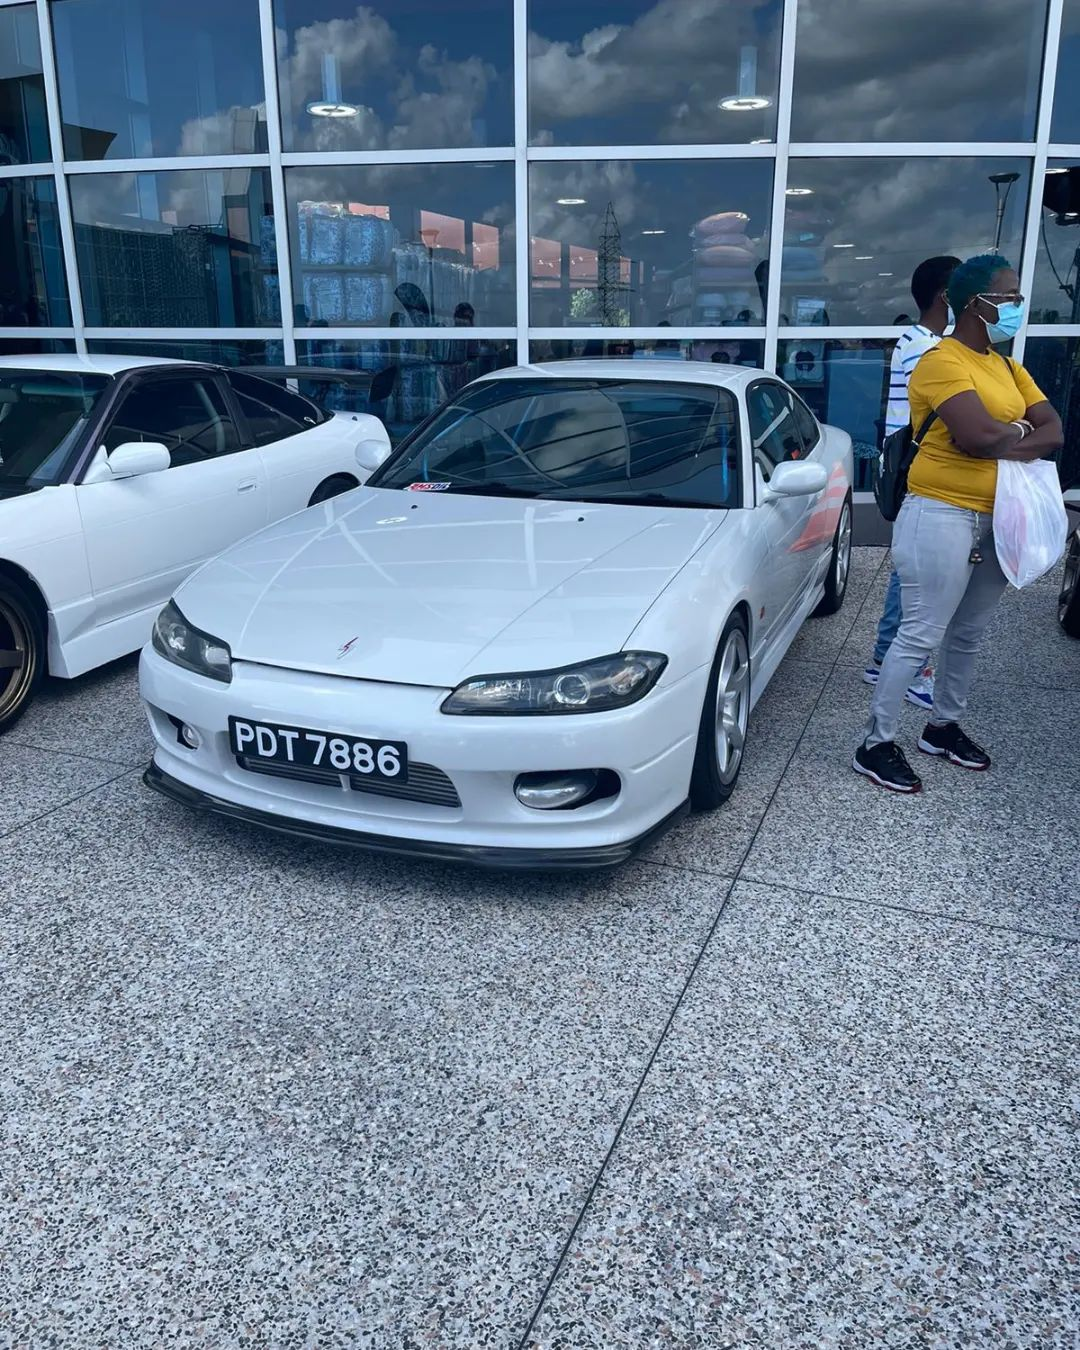License-Plate: (234, 715, 407, 753)
